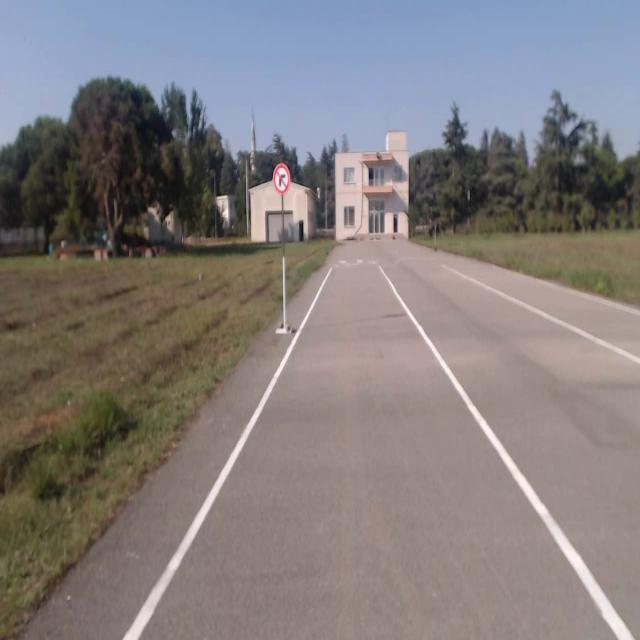sagadonulmez: (272, 164, 290, 192)
